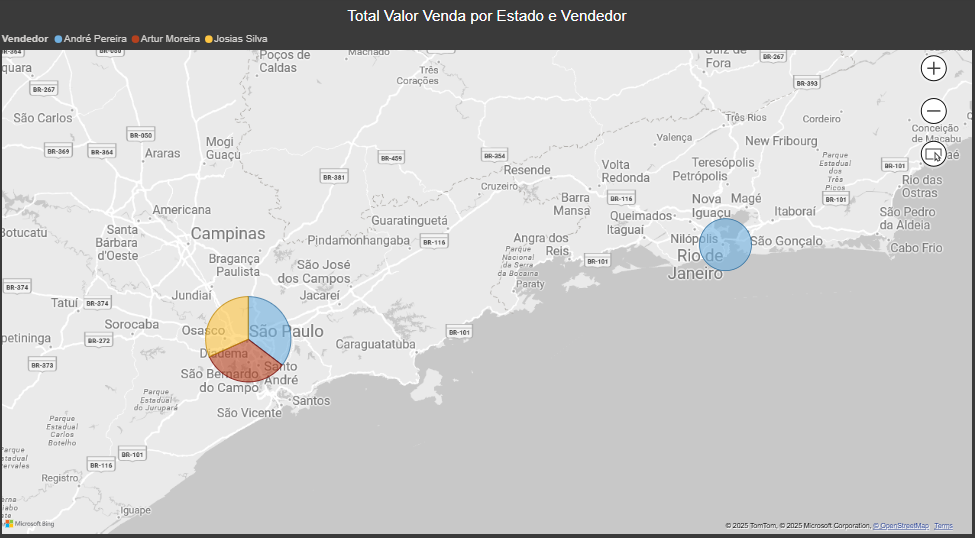

The page's visual inventory and layout, read from the dashboard file:
{"tool":"powerbi","page":{"name":"Performance dos Vendedores por Região","canvas":[1280,720],"ordinal":4},"visuals":[{"type":"map","title":"Total Valor Venda por Estado e Vendedor","fields":{"Category":["Vendas.Estado"],"Series":["Vendas.Vendedor"],"Size":["Sum(Vendas.ValorVenda)"]},"box":[0,13,1280.2,695.5],"z":0}]}

Visuals, with their boxes in screenshot pixels (x1, y1, x2, y2), scaled from the page's 1280x720 canvas onto the 975x538 screenshot:
"Total Valor Venda por Estado e Vendedor" map: x1=0, y1=10, x2=974, y2=529
